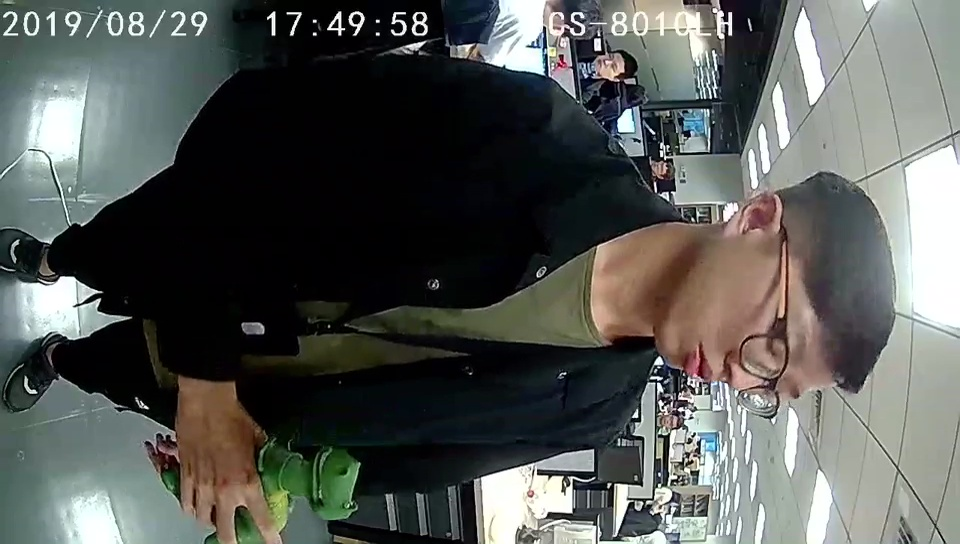rex: (158, 435, 362, 544)
